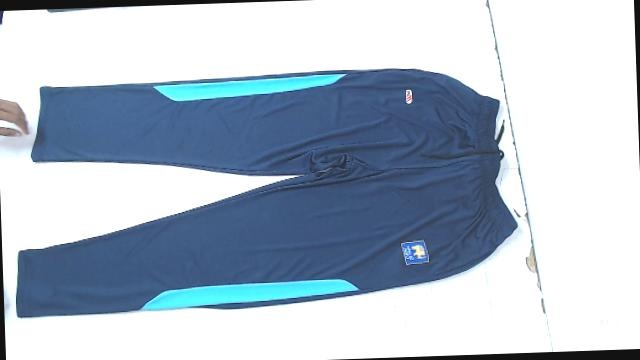new-garment: (17, 69, 516, 317)
